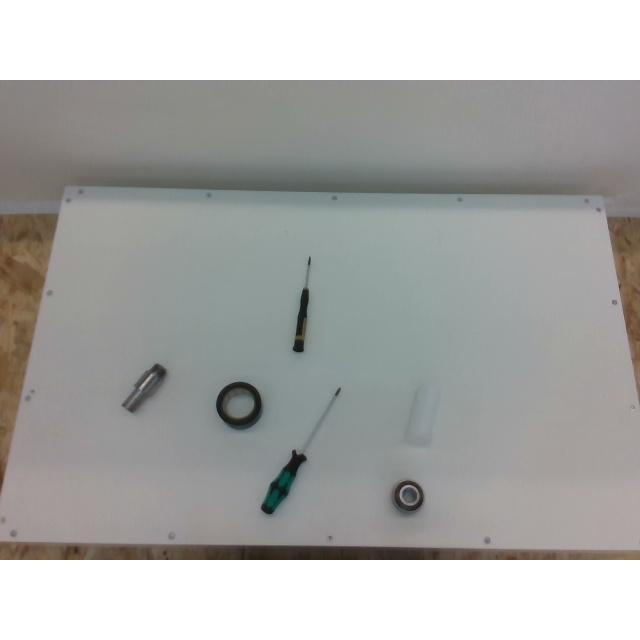Axis2: (122, 363, 166, 412)
Bearing2: (392, 480, 424, 512)
Screwdriver: (260, 386, 340, 514)
Spacer: (404, 383, 440, 445)
